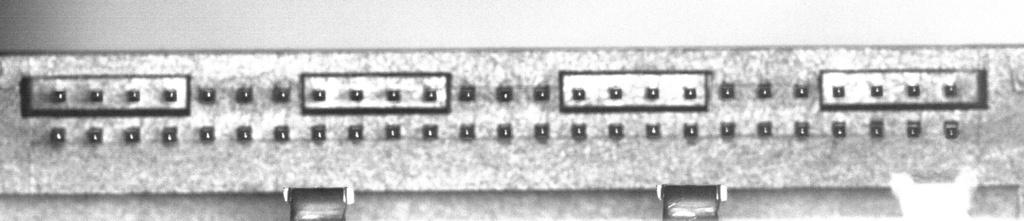pin_ok: (272, 84, 291, 102), (943, 120, 960, 139), (533, 84, 551, 101), (198, 86, 216, 103), (458, 84, 476, 101), (496, 85, 514, 102), (870, 118, 885, 137), (906, 121, 922, 138), (236, 86, 253, 102), (161, 127, 178, 143), (50, 126, 66, 143), (720, 121, 736, 137), (534, 123, 550, 139), (571, 122, 587, 138), (347, 124, 363, 140), (794, 120, 810, 136), (274, 125, 290, 141), (385, 123, 401, 139), (756, 82, 772, 98), (236, 125, 252, 141), (942, 82, 958, 98), (87, 127, 103, 143), (720, 82, 735, 99), (832, 120, 847, 137), (459, 124, 475, 139), (683, 123, 699, 138), (608, 123, 624, 138), (645, 123, 661, 138), (422, 124, 438, 139), (199, 126, 214, 142), (124, 127, 140, 142), (794, 83, 809, 98), (497, 124, 512, 139), (757, 121, 772, 136), (311, 126, 326, 141), (423, 87, 438, 102), (162, 88, 178, 102), (905, 83, 921, 97), (571, 87, 586, 101), (386, 88, 401, 102), (869, 83, 884, 97), (126, 88, 140, 102), (645, 86, 659, 100), (311, 88, 326, 101), (349, 88, 364, 101), (608, 86, 622, 99), (683, 86, 697, 99), (89, 89, 103, 102), (53, 89, 66, 102), (832, 85, 845, 98)
